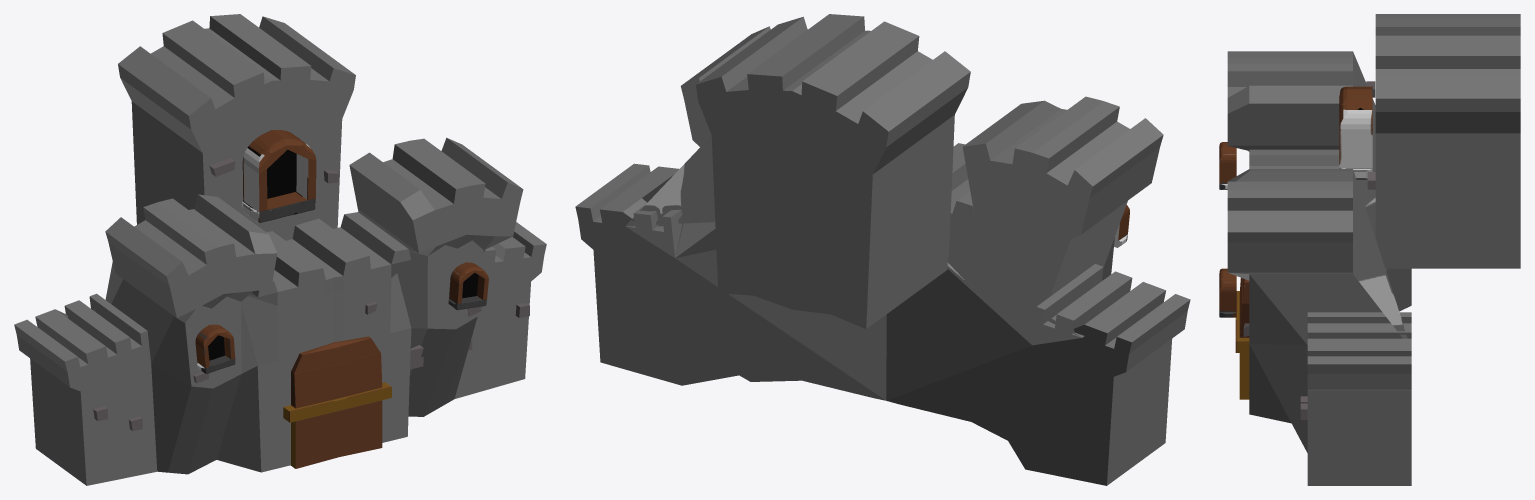
The model's file is SeaCastle.fbx.
3 views of the same model, side by side, from view 1: azimuth 30°, elevation 25°; view 2: azimuth 150°, elevation 25°; view 3: azimuth 270°, elevation 25° (orthographic). The views are drawn at different scales.
Visible parts, largest first — view 1: kalegovde, kale govde orta, kapı, pencere, bricks; view 2: kalegovde, kale govde orta; view 3: kalegovde, kale govde orta, pencere, kapı, bricks.
Part boxes in pixels (x1,y1,x2,y2): kalegovde: [14, 137, 546, 485]; kale govde orta: [118, 14, 355, 240]; kapı: [283, 336, 391, 468]; pencere: [195, 130, 488, 373]; bricks: [93, 158, 529, 430]; kalegovde: [575, 26, 1190, 485]; kale govde orta: [696, 14, 970, 328]; kalegovde: [1227, 51, 1411, 485]; kale govde orta: [1375, 14, 1520, 268]; pencere: [1219, 86, 1372, 317]; kapı: [1235, 278, 1249, 399]; bricks: [1243, 81, 1375, 419].
Bounding box in the file's own units: 418 × 291 × 222.
5 materials, 5 textured.
